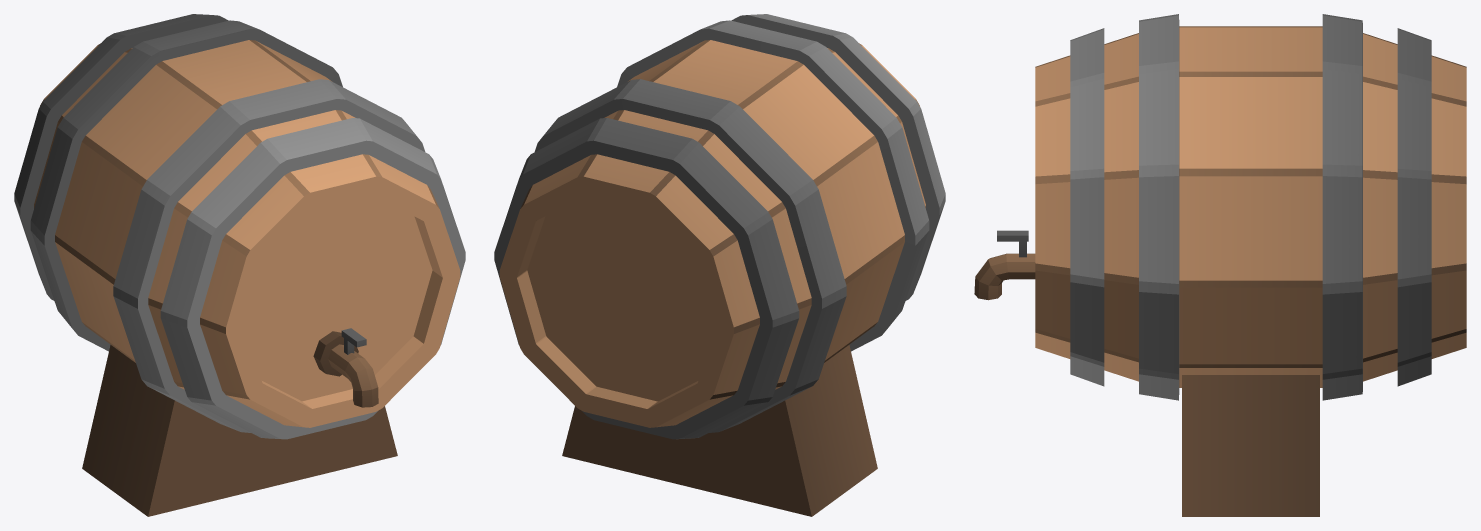
Rendered from barrel-stand.glb.
3 views of the same model, side by side, from view 1: azimuth 30°, elevation 25°; view 2: azimuth 150°, elevation 25°; view 3: azimuth 270°, elevation 25° (orthographic). The views are drawn at different scales.
Visible parts, largest first — view 1: barrel stand; view 2: barrel stand; view 3: barrel stand.
Part boxes in pixels (<box>): barrel stand: <box>14,14,465,516</box>; barrel stand: <box>494,14,945,516</box>; barrel stand: <box>974,14,1466,516</box>.
Bounding box in the file's own units: 0.5623 × 0.6633 × 0.7129.
1 material, 1 textured.
